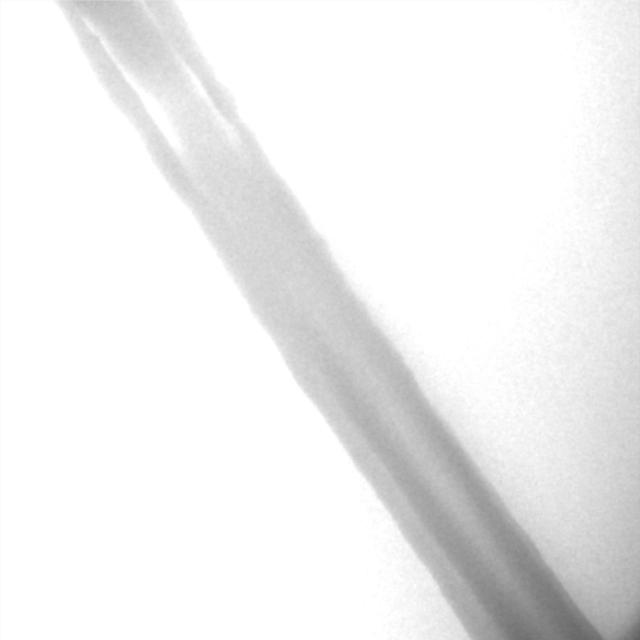unfused: (82, 5, 246, 183)
